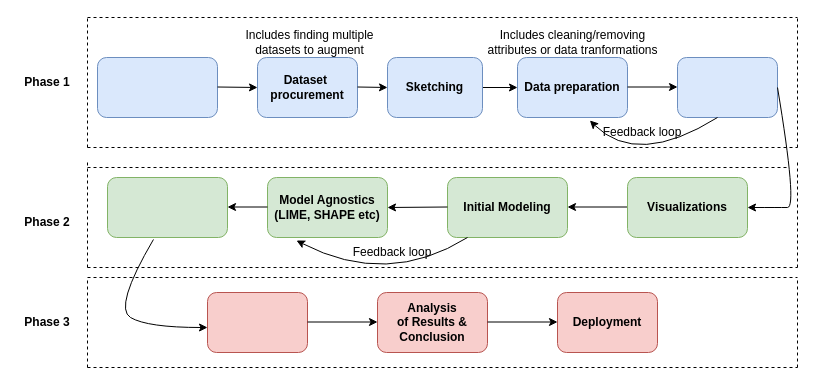
The diagram is 816 pixels wide and 386 high, and some of its shapes have lost their labels. Each missing label, with the centre of its shape:
EDA stage: the point at 727,87
Final Model: the point at 167,207
Framing Data Science Question: the point at 157,87
Results: the point at 257,322
